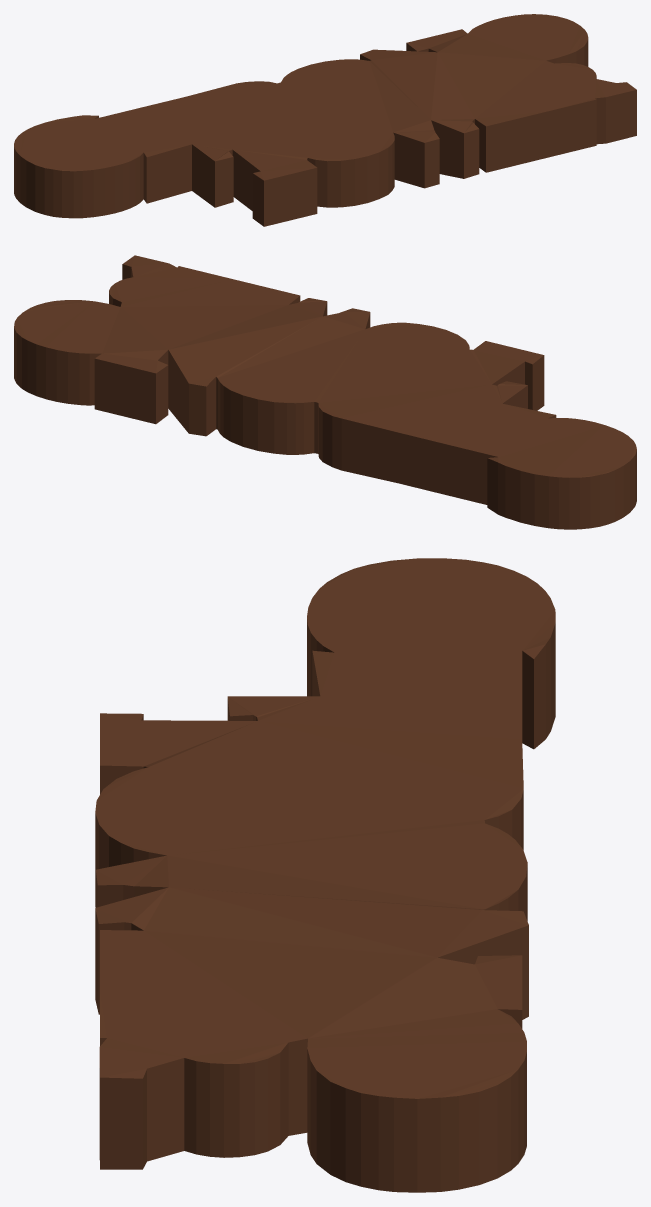
Rendered from border.fbx.
The picture shows the model from 3 angles, top to bottom: view 1: azimuth 30°, elevation 25°; view 2: azimuth 150°, elevation 25°; view 3: azimuth 270°, elevation 25°; orthographic projection. The views are drawn at different scales.
Visible parts, largest first — view 1: Text3; view 2: Text3; view 3: Text3.
Part boxes in pixels (x1=…): Text3: x1=14, y1=14, x2=636, y2=226; Text3: x1=14, y1=255, x2=636, y2=529; Text3: x1=95, y1=558, x2=555, y2=1192.
Size of the model in its own units: 411 by 38.08 by 148.
